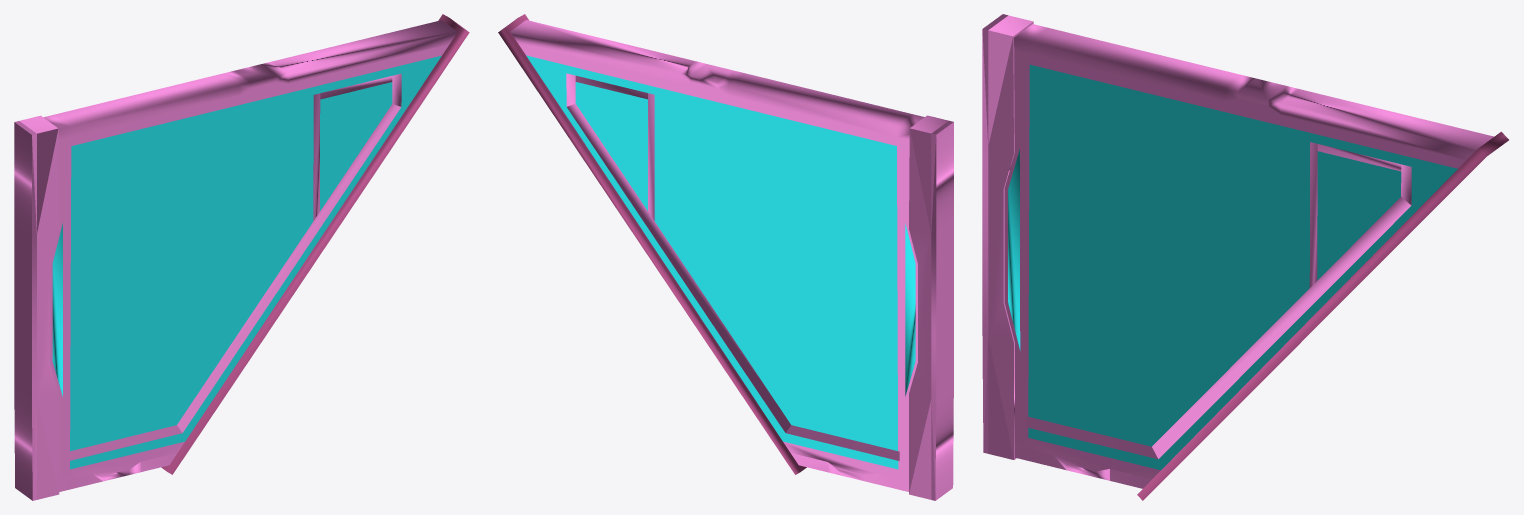
The model's file is roomlg_b_addon_pilar_archway_bend_sign_a_lod1.glb.
3 renders of one model, left to right at view 1: azimuth 30°, elevation 25°; view 2: azimuth 150°, elevation 25°; view 3: azimuth 330°, elevation 25°, orthographic. The views are drawn at different scales.
Size of the model in its own units: 4.28 by 3.52 by 0.3372.
